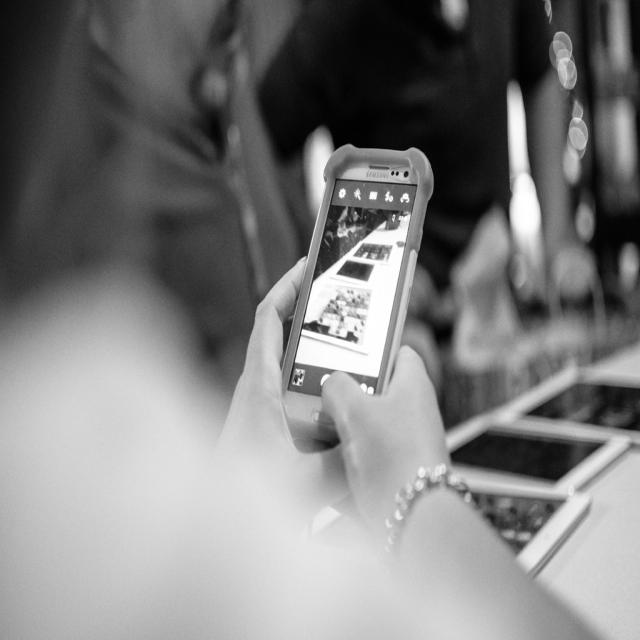Mobile phone: (282, 144, 436, 454)
